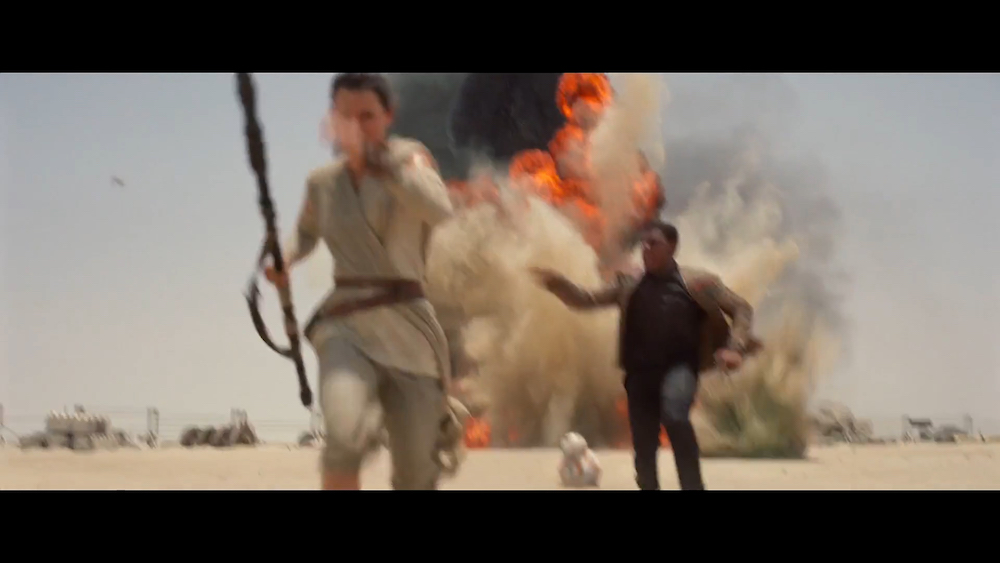Tie Fighter: (112, 174, 127, 191)
